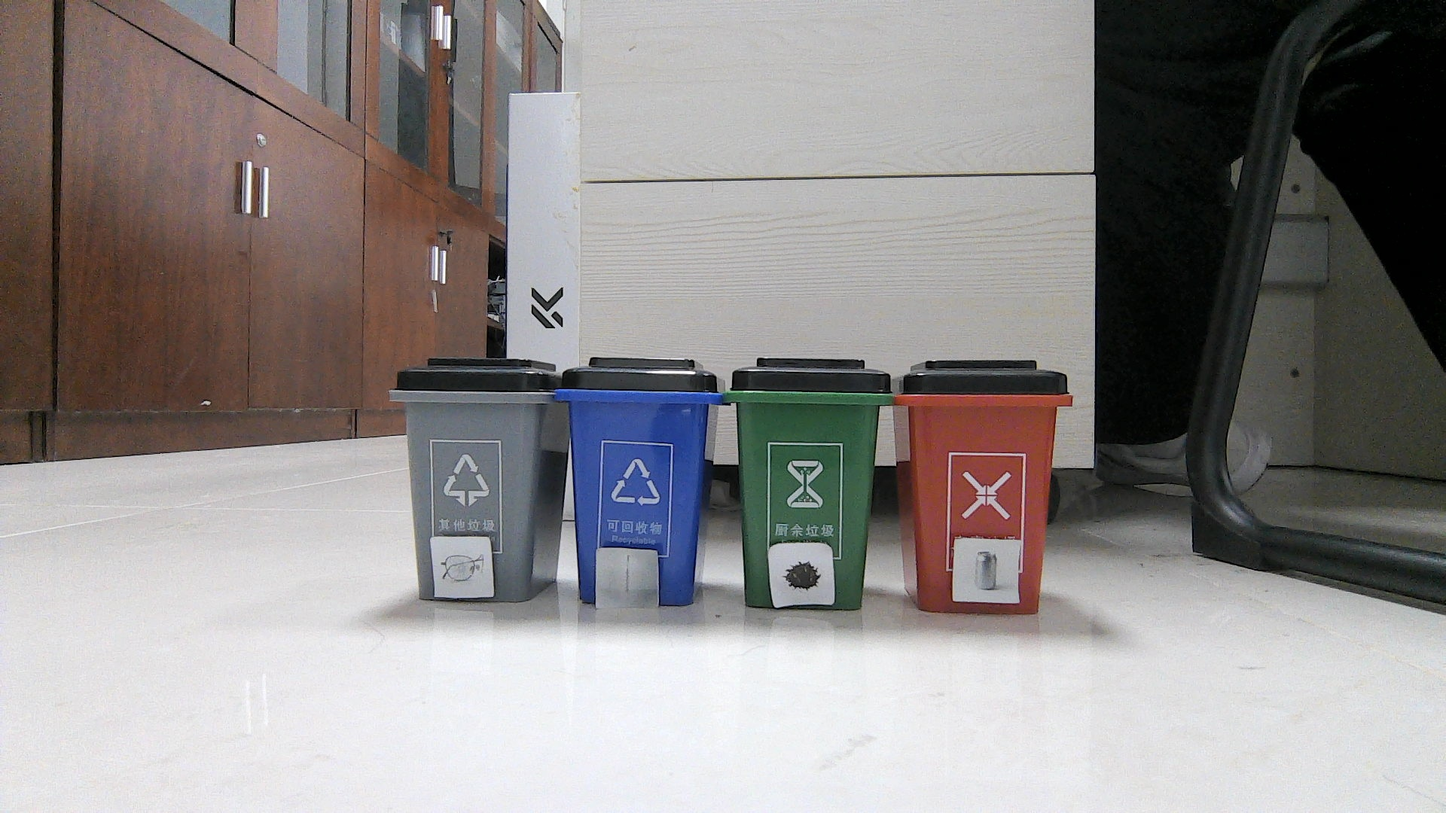food_trash: (773, 546, 829, 603)
hazardous_trash: (600, 551, 655, 607)
other_trash: (434, 541, 489, 594)
recyclable_trash: (960, 539, 1017, 599)
